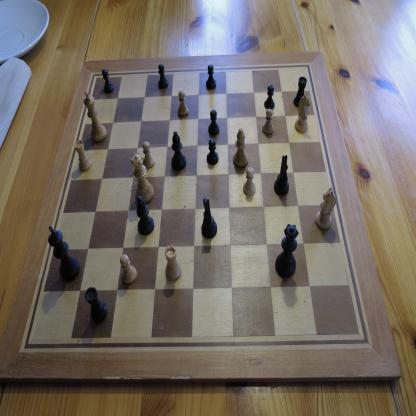black-bishop: (136, 196, 155, 236), (171, 130, 187, 170)
black-king: (48, 225, 80, 282)
black-knight: (202, 197, 218, 239), (274, 154, 289, 196)
black-pawn: (206, 138, 219, 165), (102, 68, 115, 94), (208, 109, 220, 136), (158, 63, 169, 89), (264, 84, 275, 110), (206, 64, 216, 90)
black-rook: (84, 286, 108, 323), (294, 76, 308, 108)
white-bishop: (233, 127, 249, 168)
white-king: (83, 88, 107, 143)
white-knight: (315, 187, 336, 230), (294, 91, 312, 134)
white-pawn: (120, 254, 138, 285), (142, 141, 156, 169), (243, 166, 256, 196), (177, 90, 189, 117), (262, 108, 274, 135)
white-queen: (275, 224, 299, 278), (130, 151, 154, 203)
white-rook: (164, 245, 182, 280), (74, 139, 93, 172)
